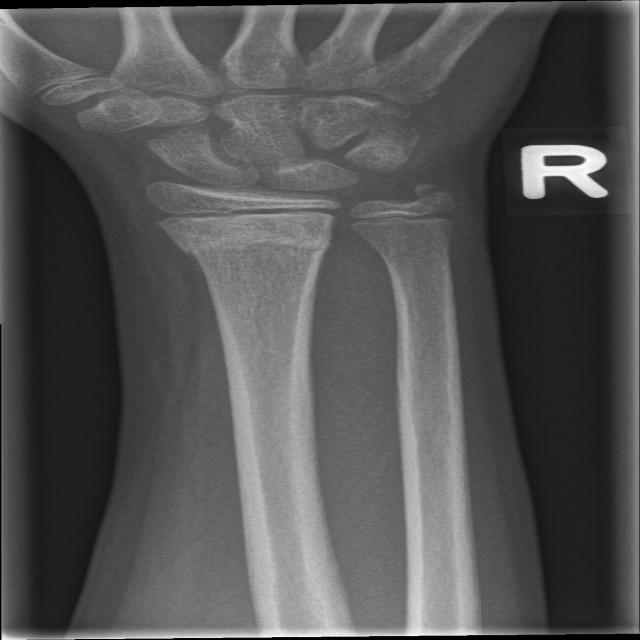radius fracture: (148, 210, 360, 354)
ulna fracture: (376, 176, 475, 268)
